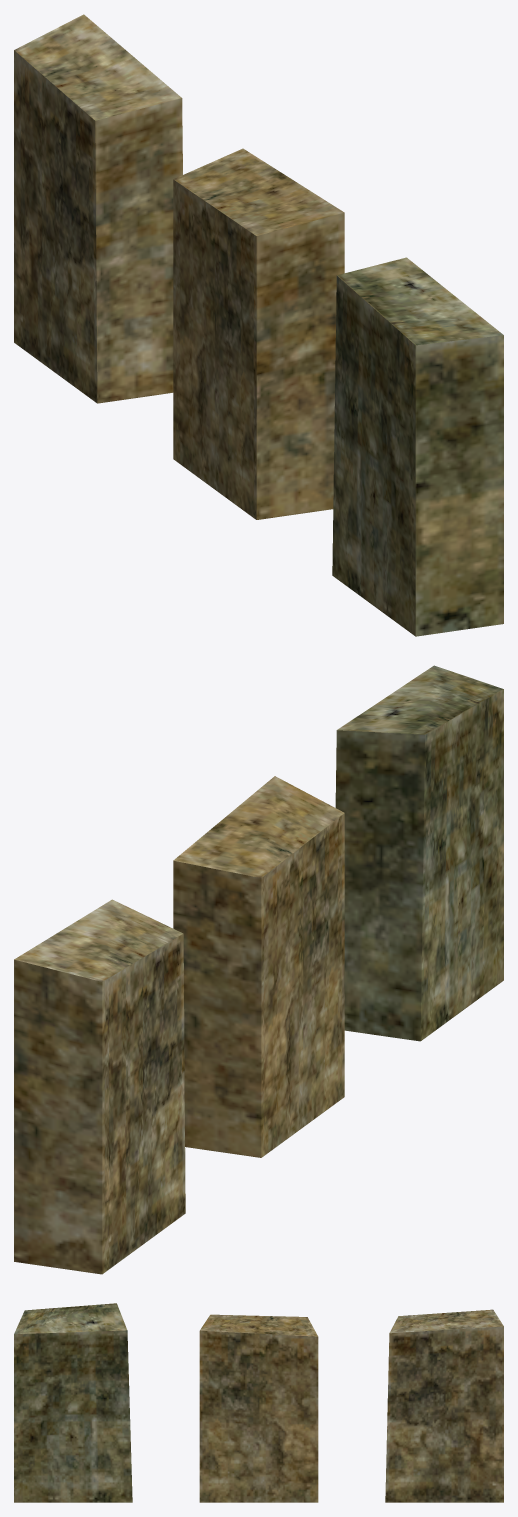
The model's file is hrz102.glb.
The picture shows the model from 3 angles, top to bottom: view 1: azimuth 30°, elevation 25°; view 2: azimuth 150°, elevation 25°; view 3: azimuth 270°, elevation 25°; orthographic projection. The views are drawn at different scales.
Parts seen in each view (by area): view 1: hrz102-col; view 2: hrz102-col; view 3: hrz102-col.
Part boxes in pixels (box(x1,y1,x2,y2)): hrz102-col: box(14, 14, 503, 636); hrz102-col: box(14, 665, 503, 1274); hrz102-col: box(14, 1303, 503, 1502).
Size of the model in its own units: 0.5742 by 2.1 by 5.28.
3 materials, 3 textured.
